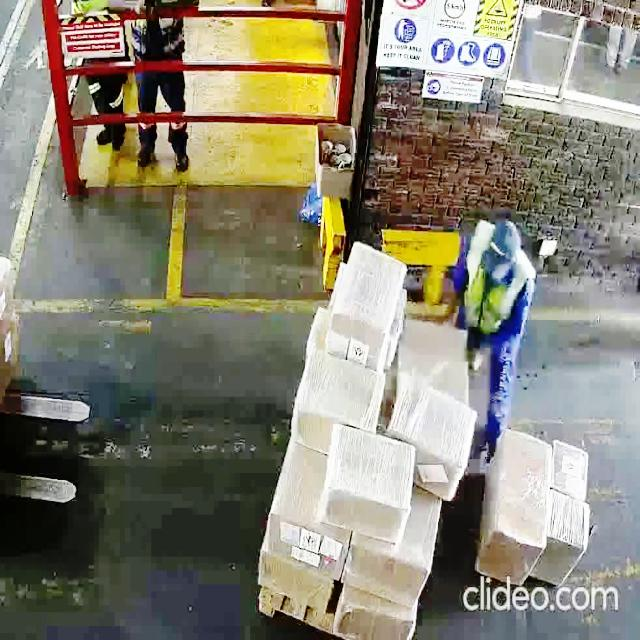Box: (325, 428, 413, 525), (332, 240, 401, 352), (491, 440, 545, 573), (300, 349, 382, 428), (398, 386, 474, 456), (266, 504, 340, 572), (258, 548, 336, 610), (350, 534, 425, 598), (333, 582, 414, 640), (540, 492, 586, 584), (550, 438, 591, 492)
